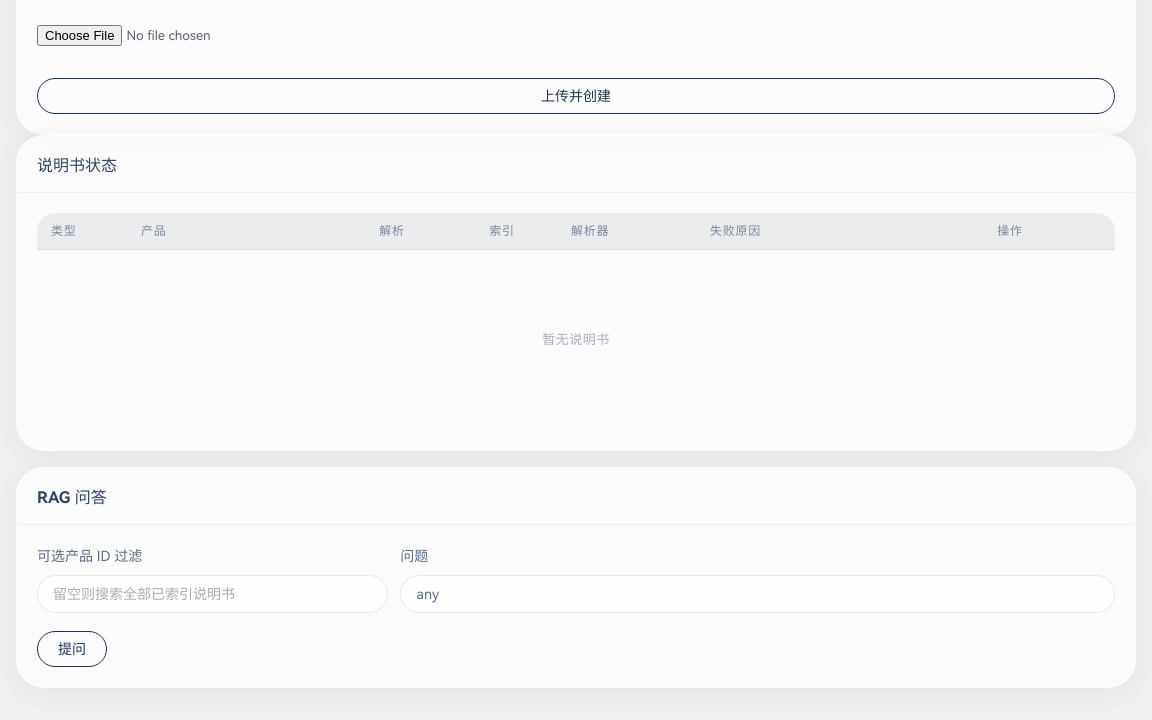
Test case: Manuals.vue › RAG sources and insufficient state › shows AI service error message on answer failure
The image size is (1152, 720).
(page scrolled)
Click the button "提问" at (72, 649), box [37, 631, 107, 667]
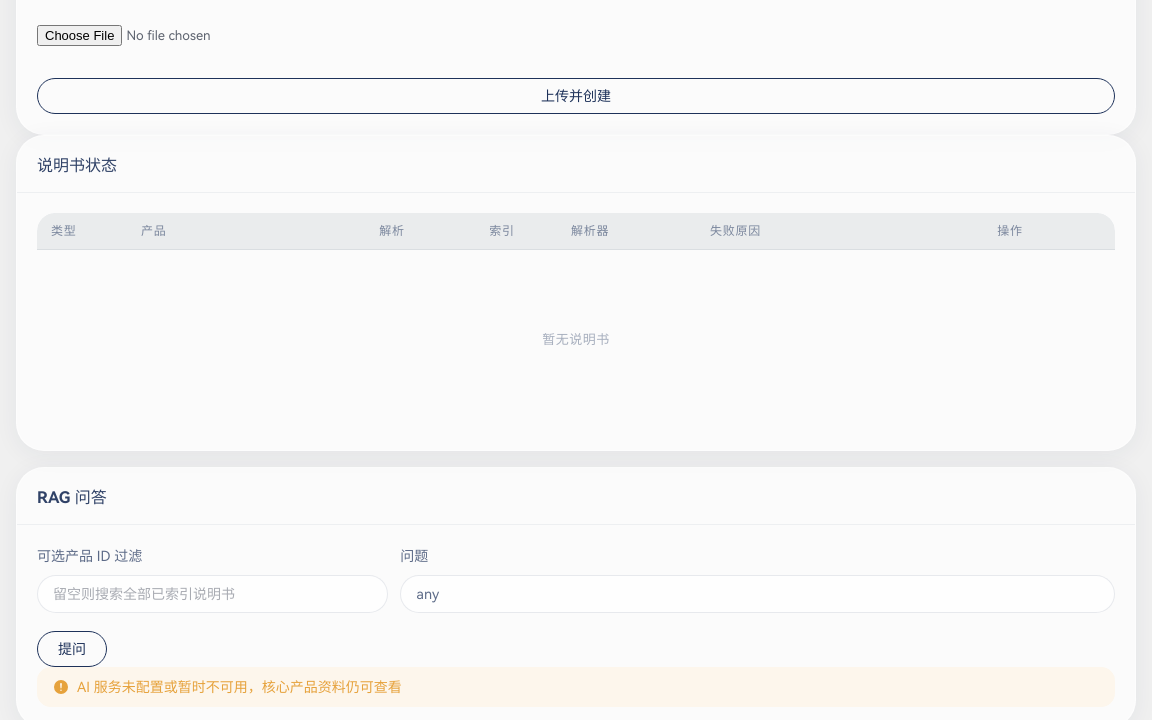
Expected: the text "AI 服务未配置或暂时不可用" is shown, [77, 679, 402, 695]
